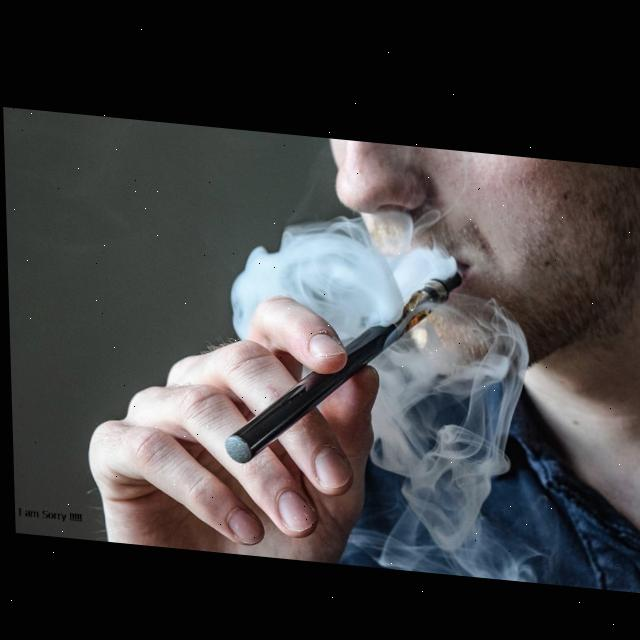vape: (217, 243, 466, 478)
